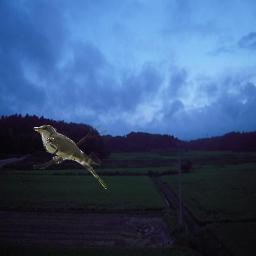Cuckoo: (33, 125, 107, 189)
